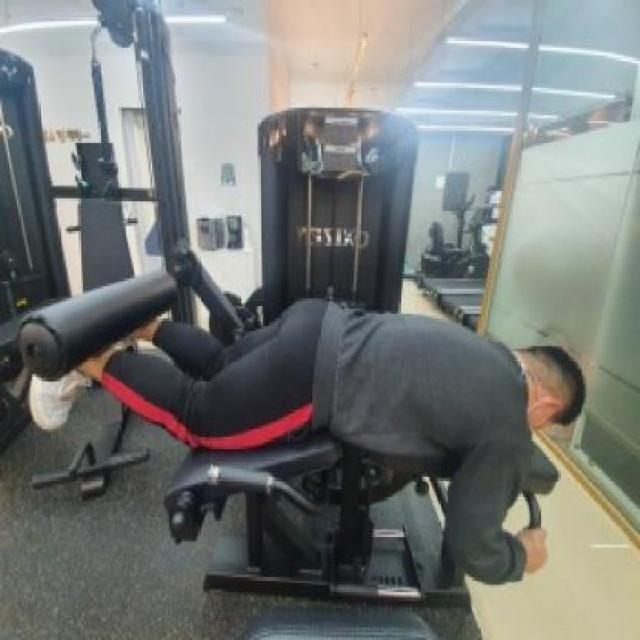reg curl machine: (15, 101, 591, 622)
